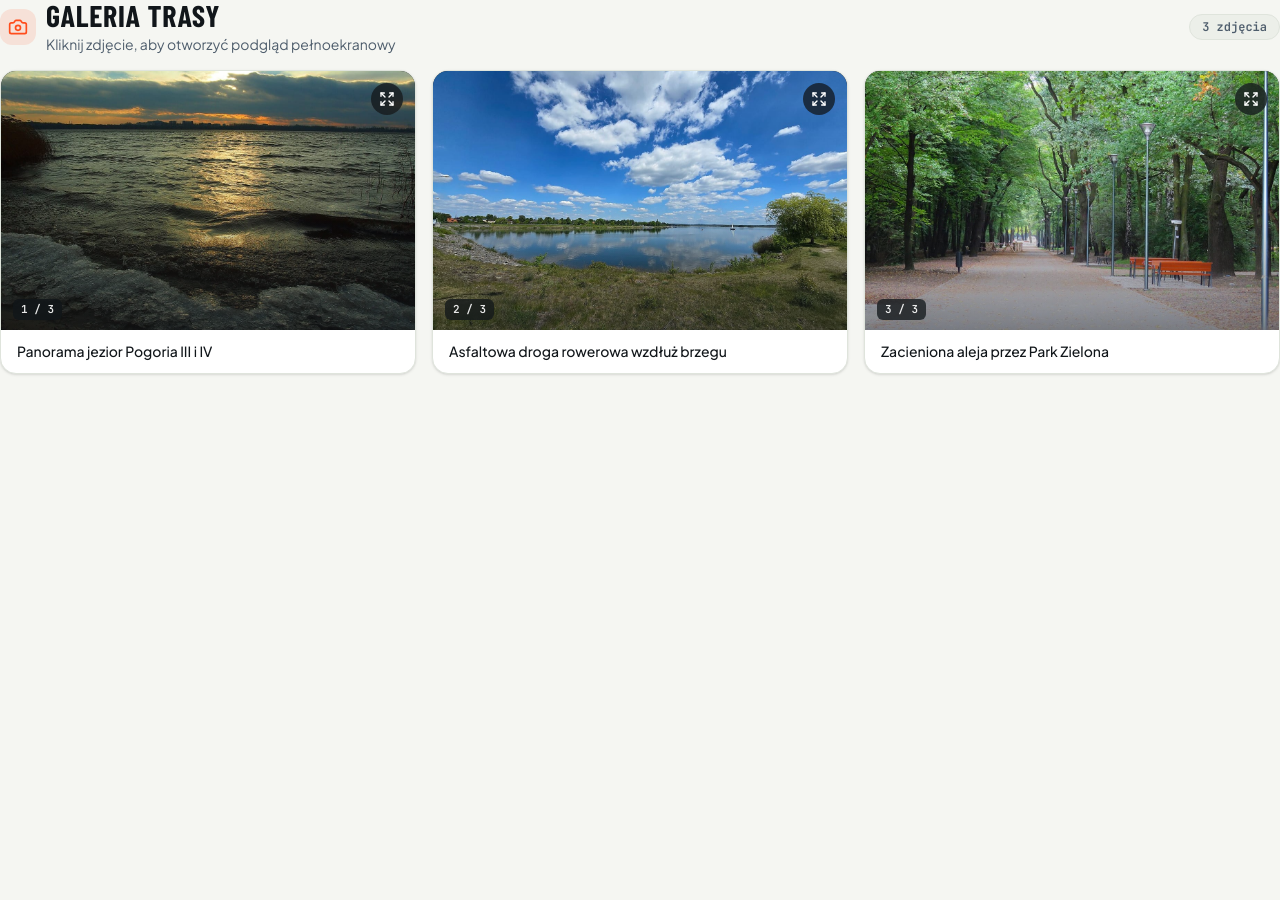
Test case: TrailGallery & PhotoLightbox › renders dark fallback on Lightbox image onError and recovers when switching to another valid photo
The image size is (1280, 900).
Later steps or results of the test are not shown.
What coordinates should you click on to do the following:
click the button with aria-label "Otwórz zdjęcie"
I would click on:
 (208, 222)
Its box is x1=0 y1=70 x2=416 y2=374.
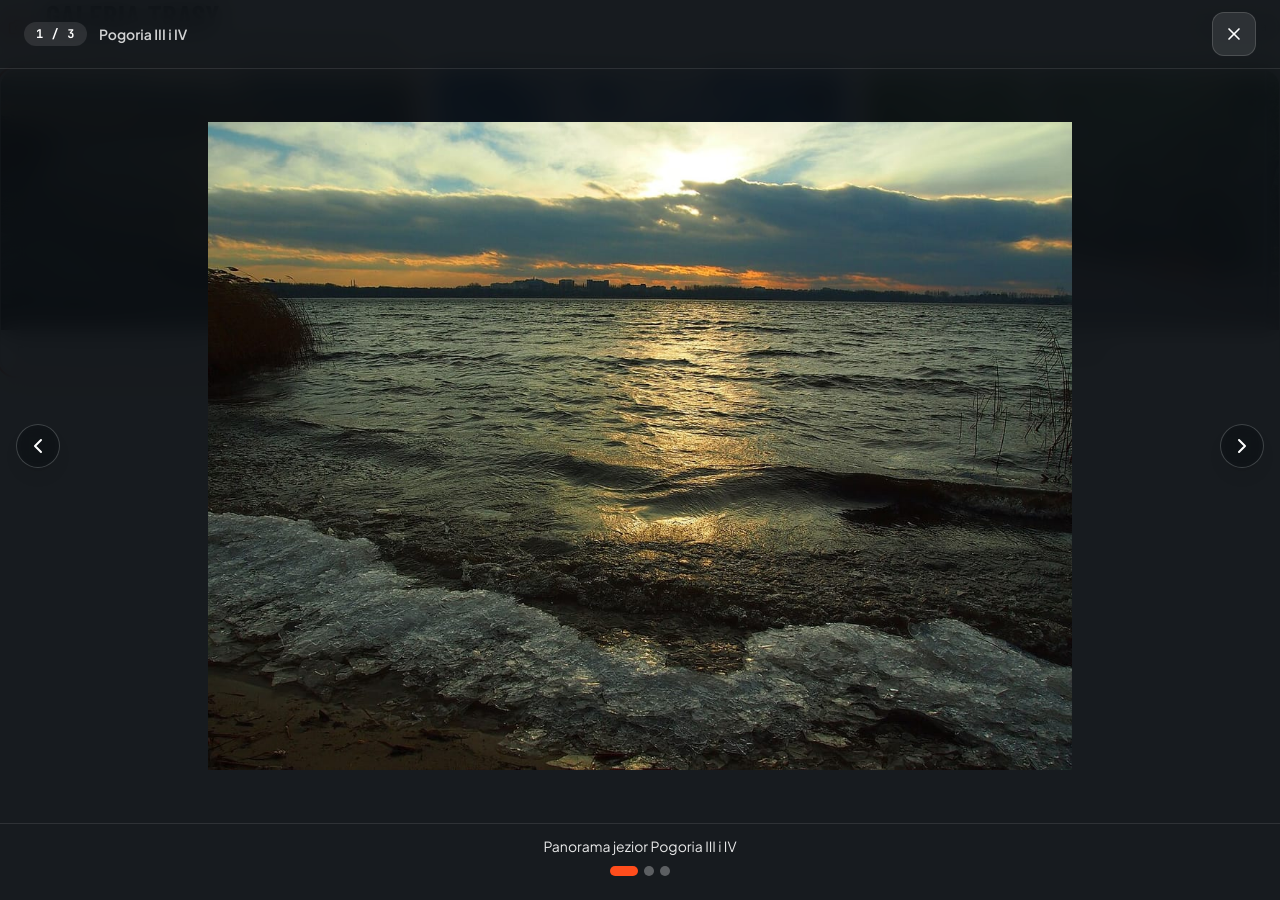
Check: the picture named "Panorama jezior Pogoria III i IV" is shown, box x1=128 y1=122 x2=1152 y2=770
